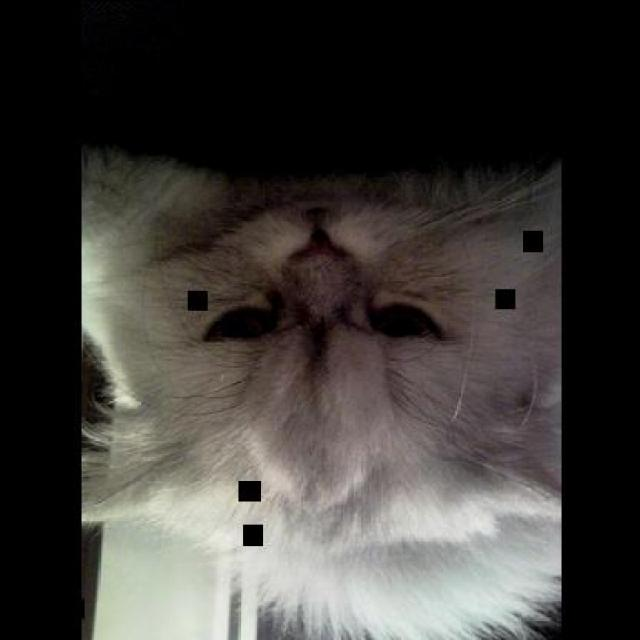unauthorized: (80, 143, 562, 639)
